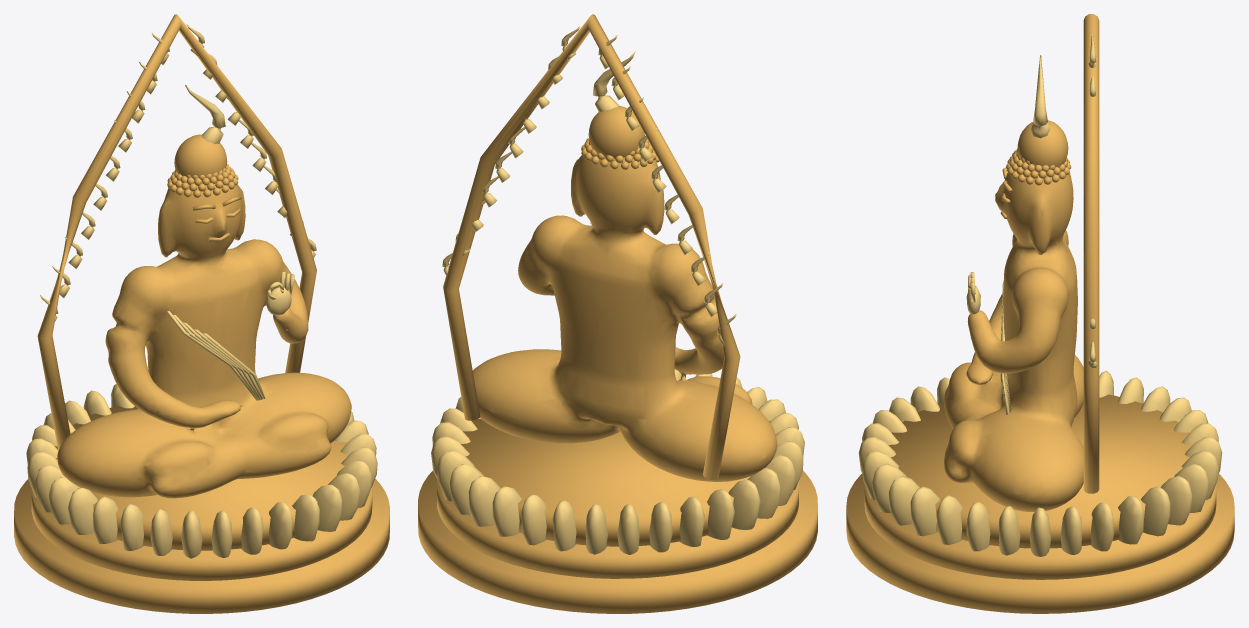
The model's file is buddha-teaching.glb.
The picture shows the model from 3 angles, left to right: view 1: azimuth 30°, elevation 25°; view 2: azimuth 150°, elevation 25°; view 3: azimuth 270°, elevation 25°; orthographic projection. The views are drawn at different scales.
Visible parts, largest first — view 1: buddha-teaching / Antique warm gold, buddha-teaching / Raised gold ornament; view 2: buddha-teaching / Antique warm gold, buddha-teaching / Raised gold ornament; view 3: buddha-teaching / Antique warm gold, buddha-teaching / Raised gold ornament.
Part boxes in pixels (left/top/right/bottom): buddha-teaching / Antique warm gold: left=14, top=14, right=389, bottom=613; buddha-teaching / Raised gold ornament: left=26, top=24, right=377, bottom=558; buddha-teaching / Antique warm gold: left=418, top=14, right=817, bottom=613; buddha-teaching / Raised gold ornament: left=431, top=26, right=804, bottom=554; buddha-teaching / Antique warm gold: left=846, top=14, right=1234, bottom=613; buddha-teaching / Raised gold ornament: left=858, top=32, right=1222, bottom=556.
Size of the model in its own units: 3.2 by 4.71 by 3.2.
